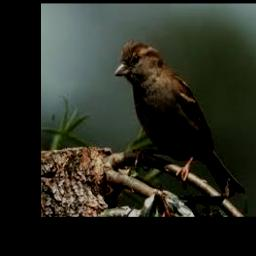Sparrow: (114, 39, 244, 198)
